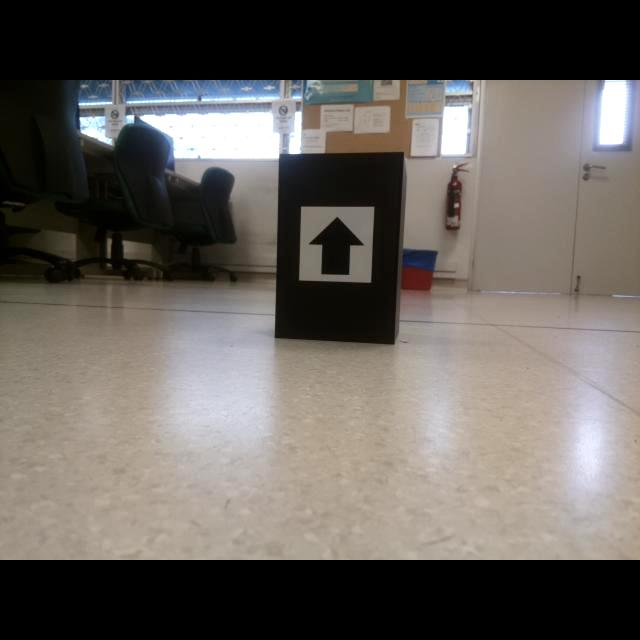UP: (307, 215, 367, 277)
